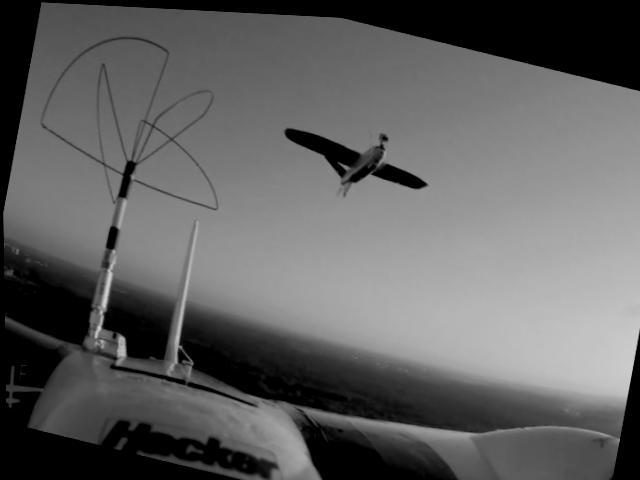hedef: (268, 99, 439, 218)
